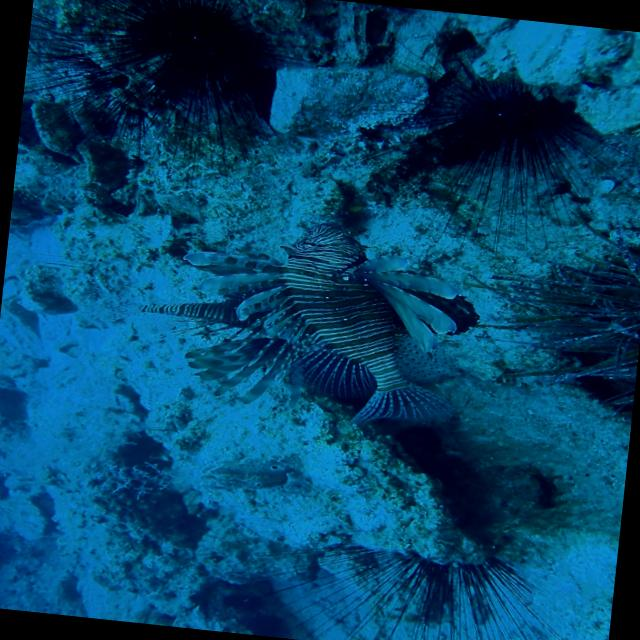Aslan Baligi: (124, 204, 489, 437)
